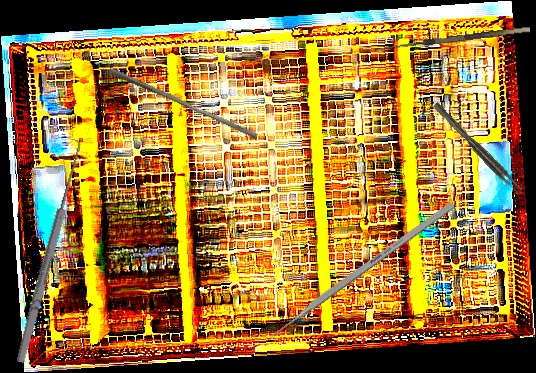Hook Surgical: (5, 136, 88, 365), (374, 26, 532, 60)
Pusher: (259, 200, 456, 347), (105, 67, 261, 140)
Tissue Forceps: (432, 99, 524, 196)
